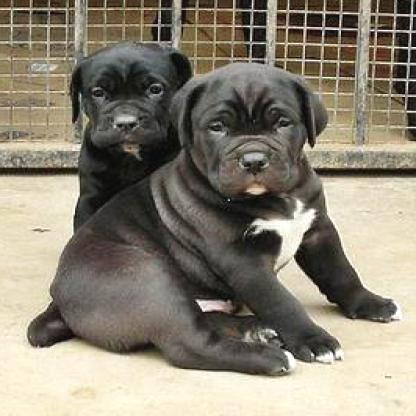dog: (23, 63, 400, 376), (47, 40, 199, 234)
